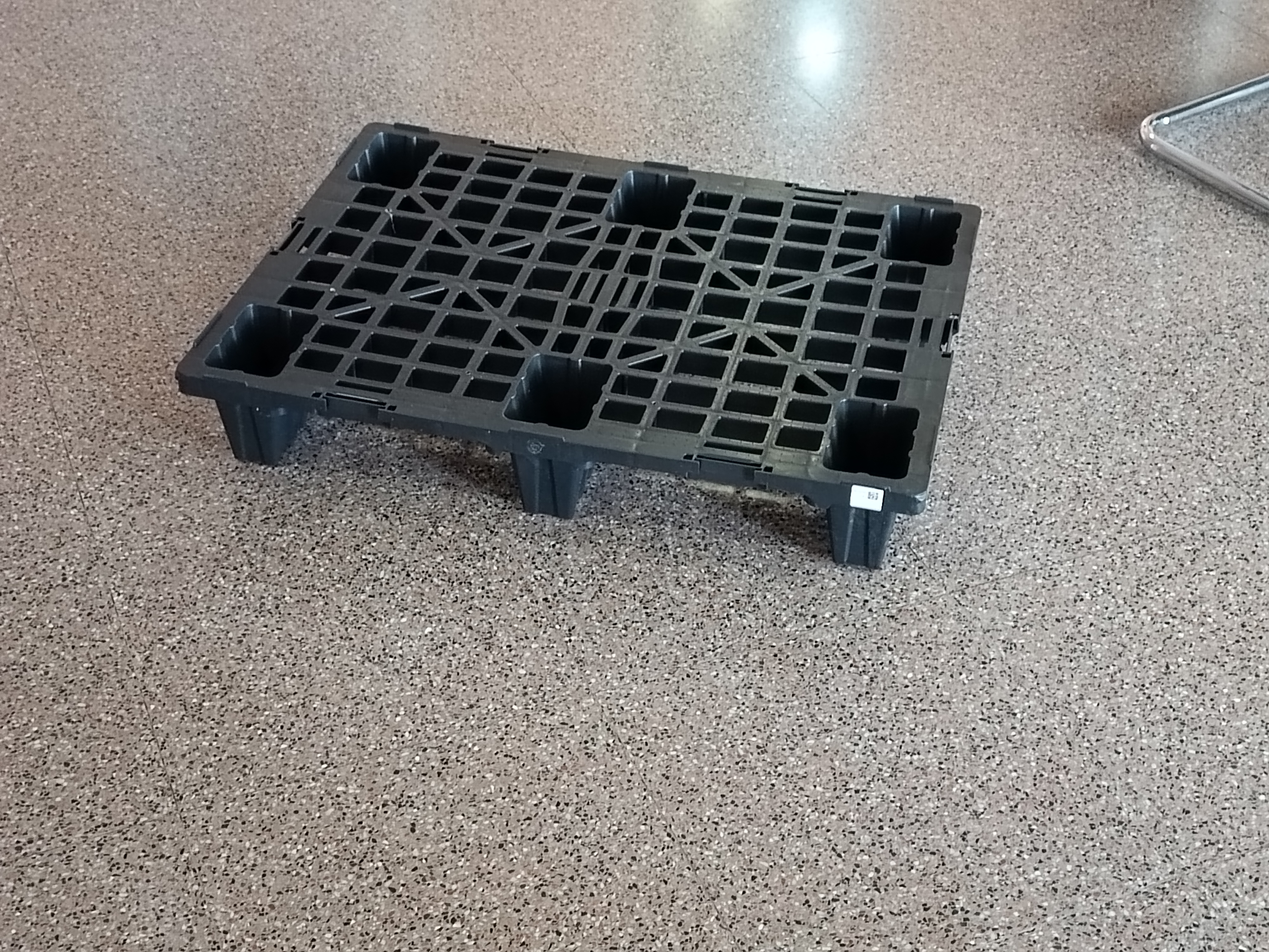block: (208, 392, 282, 468), (508, 447, 582, 522), (832, 492, 897, 569)
front: (171, 378, 916, 599)
hole pallet: (575, 462, 834, 561), (287, 406, 518, 513)
